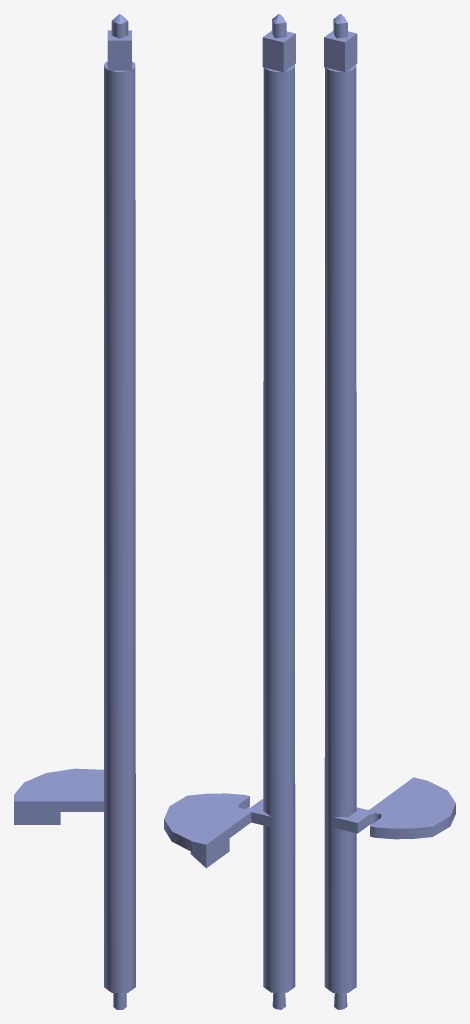
Rendered from Copie de Bras de marteau 2^Horloge Comtoise Verge - Sonnerie.obj.
3 renders of one model, left to right at view 1: azimuth 90°, elevation 25°; view 2: azimuth 150°, elevation 25°; view 3: azimuth 330°, elevation 25°, orthographic.
Visible parts, largest first — view 1: Face_1, Face_11, Face_20, Face_18; view 2: Face_1, Face_11, Face_20, Face_17, Face_18, Face_25; view 3: Face_1, Face_11, Face_24, Face_15, Face_16.
Boxes of the visible parts, x1,y1,x2,y2 form: Face_1: (104,66,135,992); Face_11: (14,768,103,801); Face_20: (14,801,103,824); Face_18: (107,40,131,70); Face_1: (263,65,295,992); Face_11: (164,793,270,844); Face_20: (206,812,251,867); Face_17: (262,37,283,72); Face_18: (283,34,295,71); Face_25: (164,819,192,851); Face_1: (324,66,356,992); Face_11: (334,777,455,828); Face_24: (375,826,432,839); Face_15: (324,37,344,72); Face_16: (345,34,357,71).
Bounding box in the file's own units: 0.0201 × 0.1892 × 0.021.
